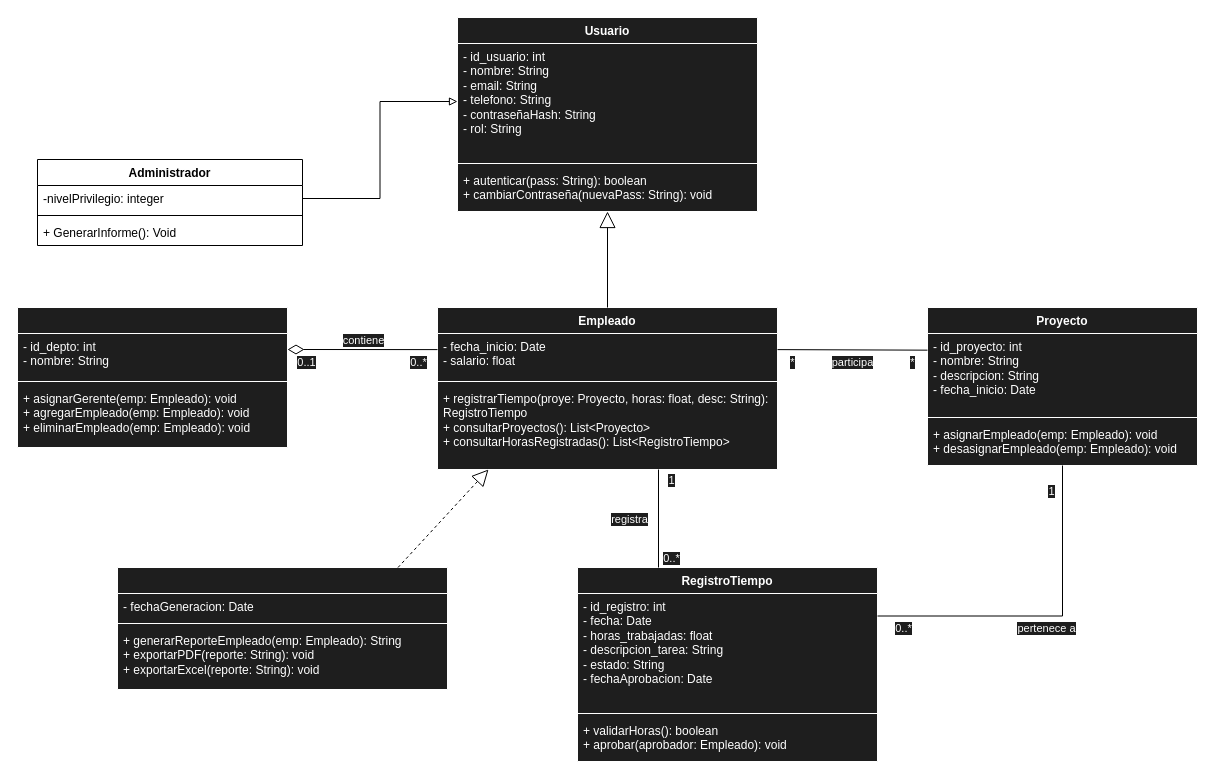
The diagram is 1215 pixels wide and 782 high, and some of its shapes have lost their labels. Here are the shapes that lost their labels. From the top down, the box of each, then its label:
(16, 306, 288, 448): Departamento
(116, 566, 448, 690): GeneradorReportes
